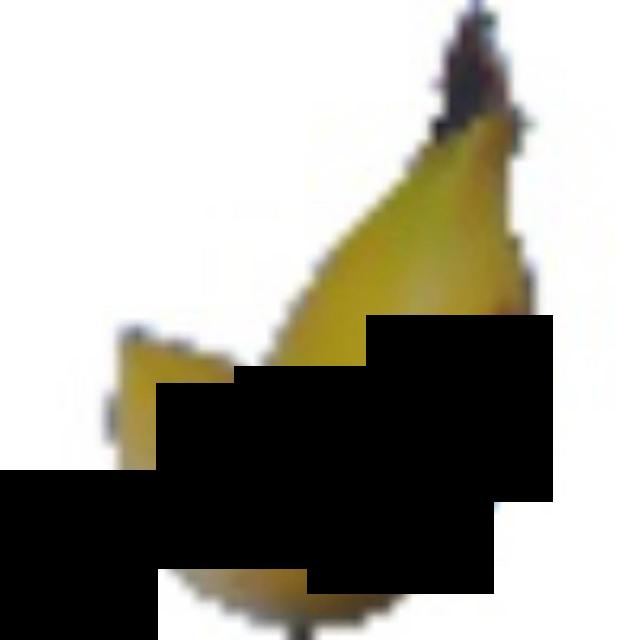banana: (109, 0, 563, 634)
